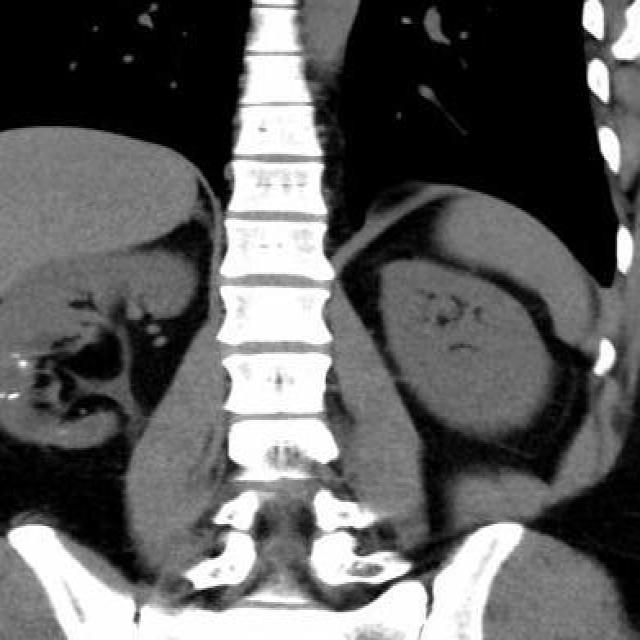Tas_Var: (17, 359, 30, 369), (7, 391, 19, 401), (8, 351, 21, 359), (0, 392, 7, 398)
